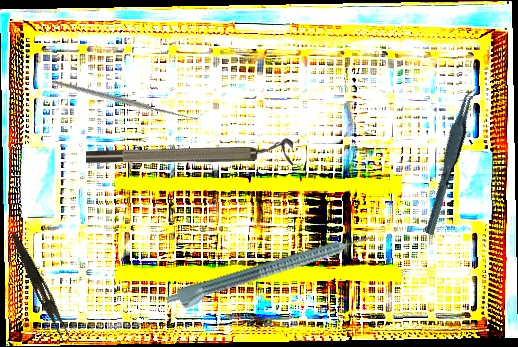Dressing Forceps: (5, 232, 75, 342)
Fixation Ring: (86, 138, 293, 167)
Handpiece: (164, 230, 374, 316)
Hook Surgical: (51, 22, 203, 174)
Tissue Forceps: (408, 85, 494, 236)
